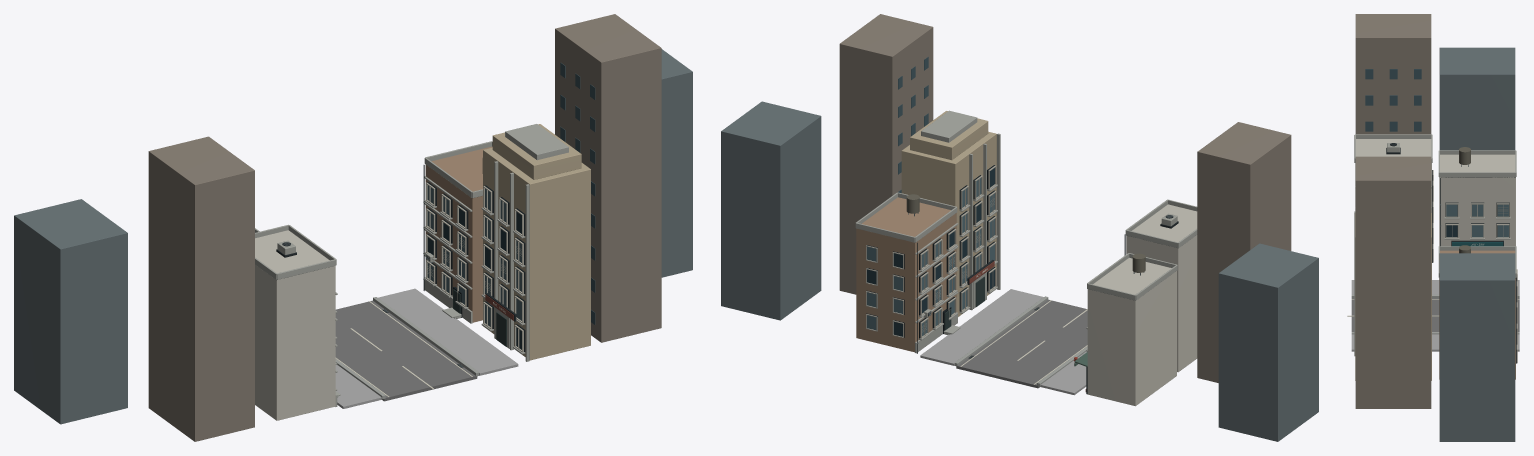
The model's file is city_hd_03.glb.
3 views of the same model, side by side, from view 1: azimuth 30°, elevation 25°; view 2: azimuth 150°, elevation 25°; view 3: azimuth 270°, elevation 25° (orthographic). The views are drawn at different scales.
Parts seen in each view (by area): view 1: CITY_distant_3, CITY_distant_0, CITY_wall_brick_tan, CITY_wall_ivory, CITY_trim, CITY_PBR_asphalt, CITY_PBR_pavement, Masonry apartment volume.001, CITY_frame, CITY_glass, CITY_recess, CITY_distant_window (+2 smaller); view 2: CITY_distant_0, CITY_distant_3, CITY_wall_ivory, Masonry apartment volume.001, CITY_trim, CITY_wall_brick_tan, CITY_PBR_asphalt, CITY_PBR_pavement, CITY_frame, CITY_glass, CITY_recess, CITY_glass_dark (+2 smaller); view 3: CITY_distant_3, CITY_distant_0, CITY_wall_ivory, CITY_trim, CITY_frame, CITY_distant_window, CITY_glass, CITY_PBR_asphalt, CITY_PBR_pavement, Masonry apartment volume.001, CITY_recess, CITY_wall_brick_tan (+3 smaller).
Boxes of the visible parts, x1,y1,x2,y2 form: CITY_distant_3: [148, 14, 661, 441]; CITY_distant_0: [14, 49, 692, 424]; CITY_wall_brick_tan: [483, 124, 590, 360]; CITY_wall_ivory: [255, 230, 335, 420]; CITY_trim: [255, 124, 568, 406]; CITY_PBR_asphalt: [335, 300, 477, 401]; CITY_PBR_pavement: [335, 288, 518, 408]; Masonry apartment volume.001: [425, 146, 492, 322]; CITY_frame: [425, 182, 523, 352]; CITY_glass: [427, 185, 521, 326]; CITY_recess: [427, 182, 525, 351]; CITY_distant_window: [560, 62, 595, 324]; CITY_distant_0: [721, 101, 1318, 441]; CITY_distant_3: [839, 14, 1291, 382]; CITY_wall_ivory: [1087, 204, 1197, 406]; Masonry apartment volume.001: [856, 197, 956, 352]; CITY_trim: [855, 110, 1197, 353]; CITY_wall_brick_tan: [901, 111, 996, 316]; CITY_PBR_asphalt: [956, 299, 1087, 388]; CITY_PBR_pavement: [920, 289, 1086, 395]; CITY_frame: [866, 165, 996, 338]; CITY_glass: [867, 178, 994, 336]; CITY_recess: [866, 165, 995, 338]; CITY_glass_dark: [867, 168, 994, 336]; CITY_distant_3: [1355, 14, 1431, 408]; CITY_distant_0: [1439, 47, 1515, 441]; CITY_wall_ivory: [1355, 139, 1515, 246]; CITY_trim: [1354, 134, 1516, 356]; CITY_frame: [1432, 170, 1517, 363]; CITY_distant_window: [1365, 69, 1421, 131]; CITY_glass: [1446, 204, 1508, 237]; CITY_PBR_asphalt: [1351, 298, 1519, 331]; CITY_PBR_pavement: [1351, 280, 1519, 351]; Masonry apartment volume.001: [1439, 250, 1515, 379]; CITY_recess: [1432, 170, 1516, 363]; CITY_wall_brick_tan: [1355, 213, 1431, 380].
Bounding box in the file's own units: 56.65 × 24.26 × 16.4.
